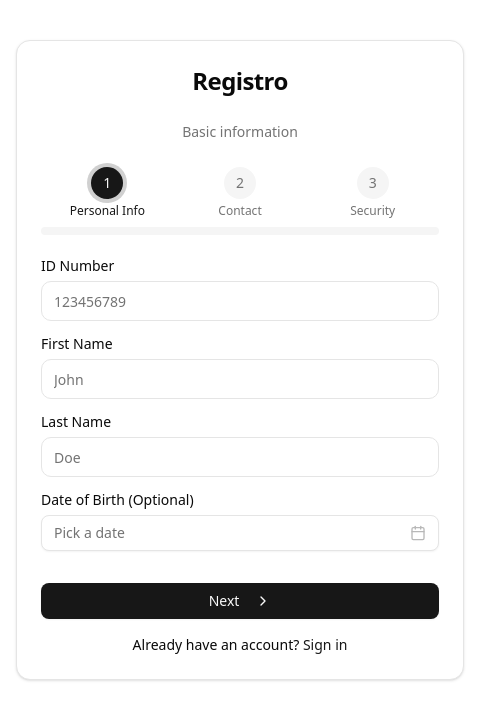
Test: Formulario de Registro Multi-Step › Validación de campos › no debe avanzar del paso 1 si los campos están vacíos
Click the button "Next".
click(240, 601)  # box [41, 583, 439, 619]
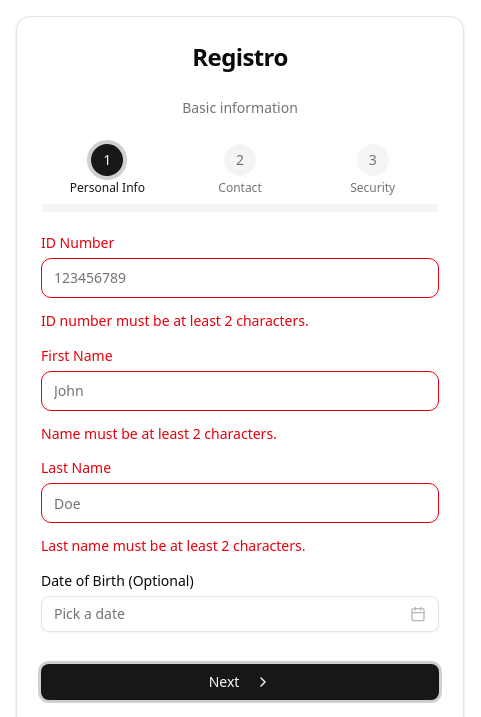
Check: the text "ID number must be at least 2 characters" is shown, box [41, 311, 309, 330]
Check: the text "Name must be at least 2 characters" is shown, box [41, 424, 277, 443]
Check: the text "Last name must be at least 2 characters" is shown, box [41, 536, 305, 555]
